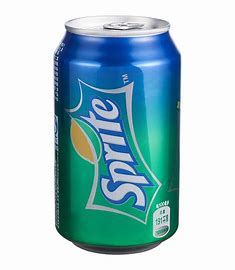Sprite: (51, 13, 183, 256)
